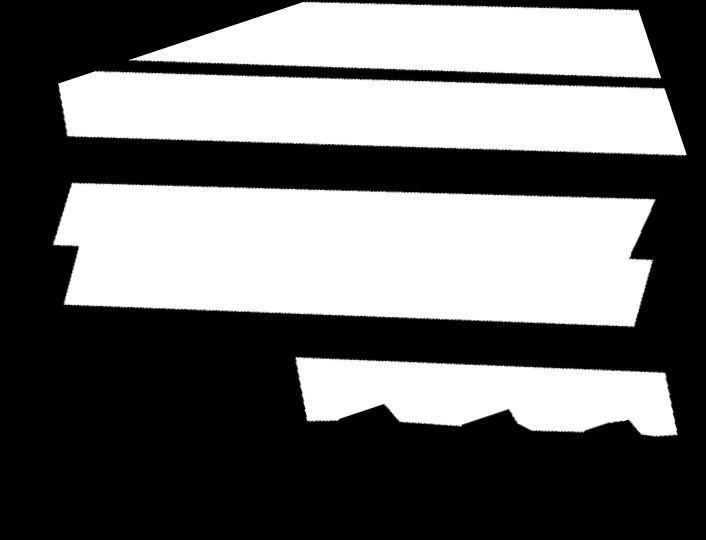parkingspot: (53, 183, 655, 327), (58, 71, 687, 156), (130, 2, 661, 79), (296, 357, 678, 437)
